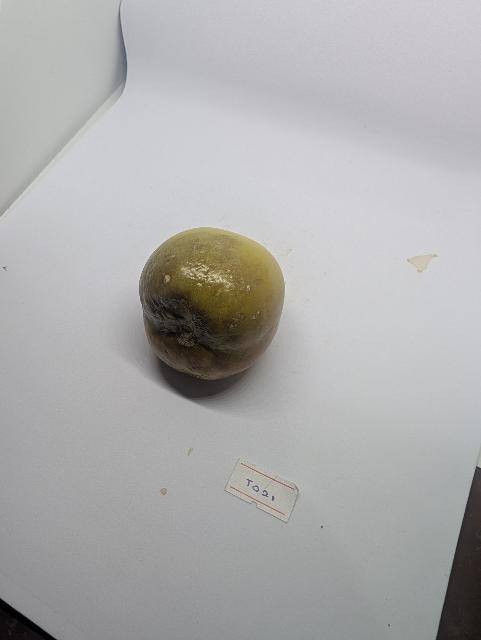defect: (135, 225, 289, 386)
